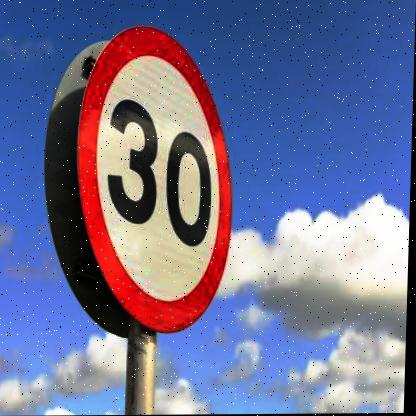Speed Limit -30-: (73, 18, 243, 332)
